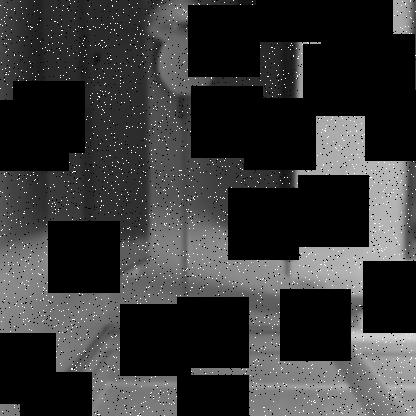Porte: (71, 1, 301, 292)
